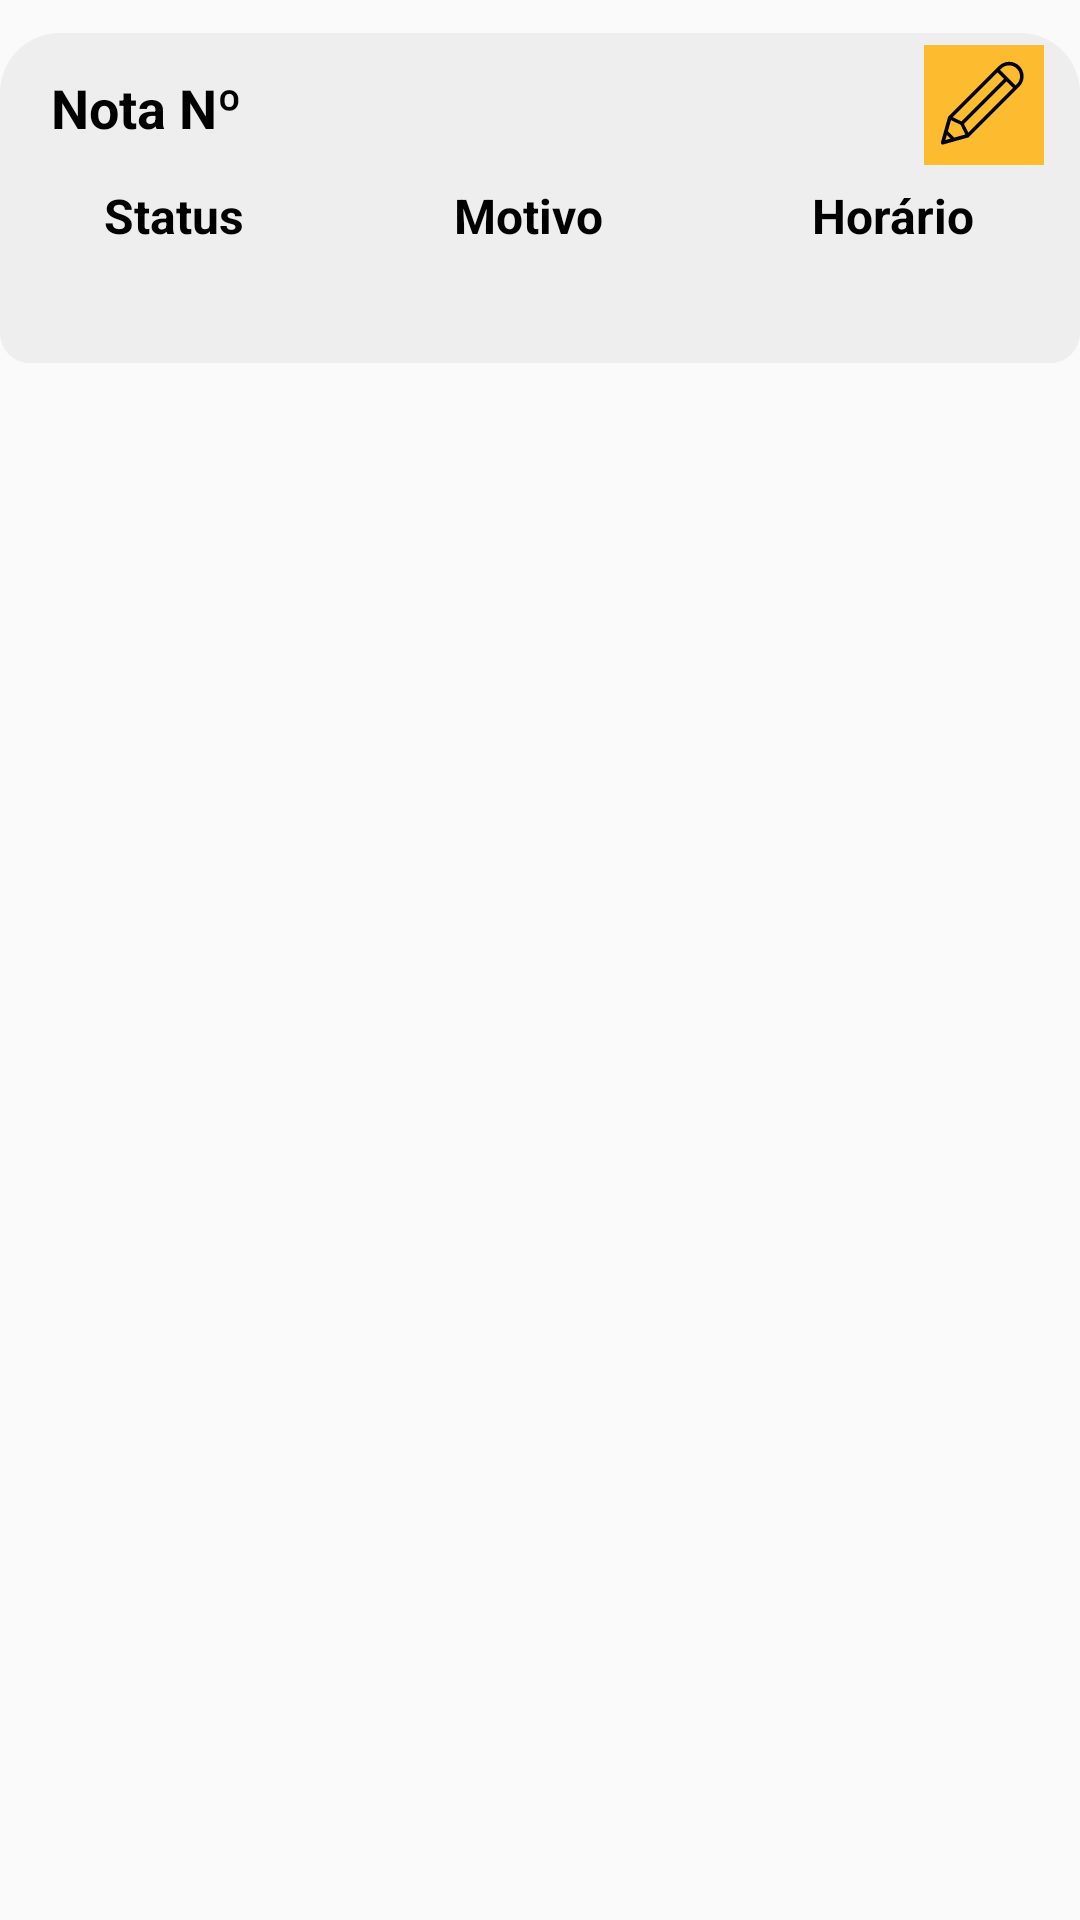

Icons on this 1080 × 1920 Android screen, each with the point to tap as (x,y):
pencil: (984,105)
